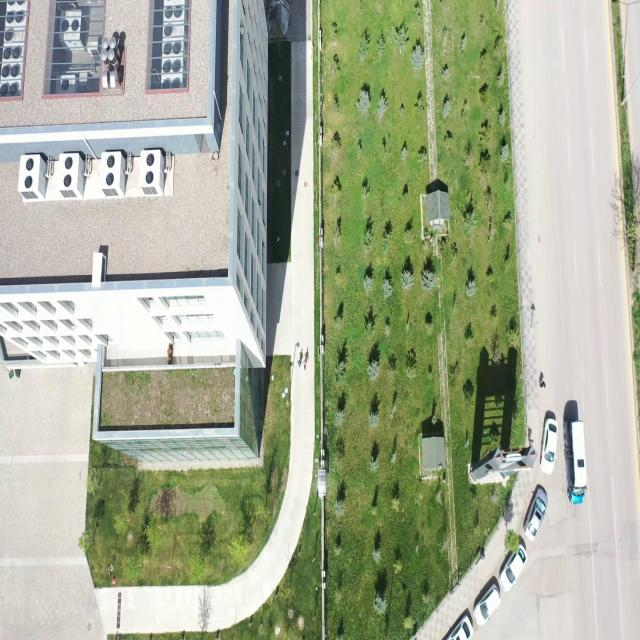p3rson: (539, 381, 546, 388), (303, 360, 307, 370), (298, 360, 301, 367), (529, 441, 532, 446)
